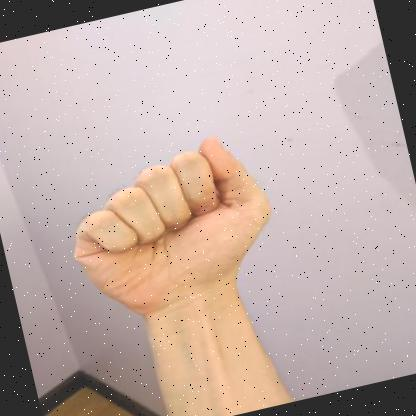A: (73, 136, 272, 315)
